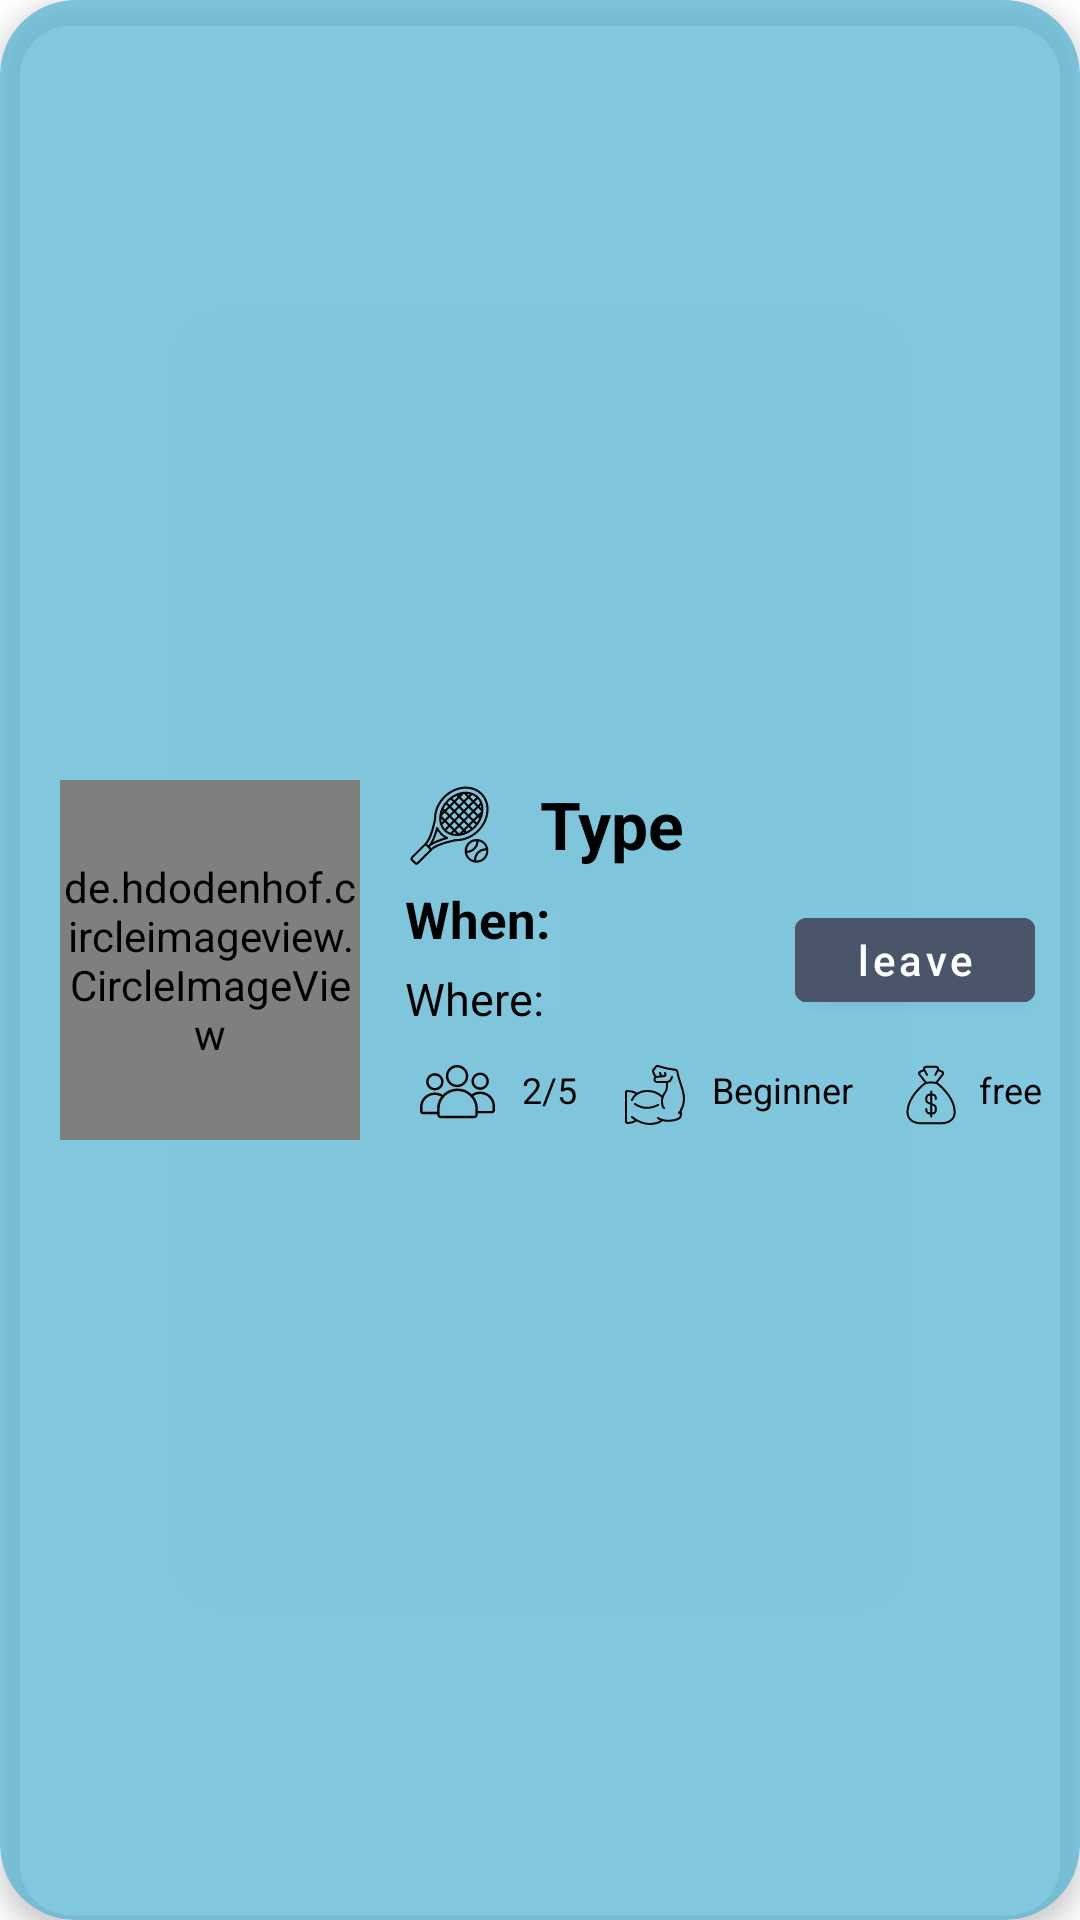

Locate icon controls on the screen. Image size 1080px×1920px, boxes as (x1, y1, x2, y2).
cost: (906, 1065, 956, 1125)
level: (625, 1065, 685, 1125)
